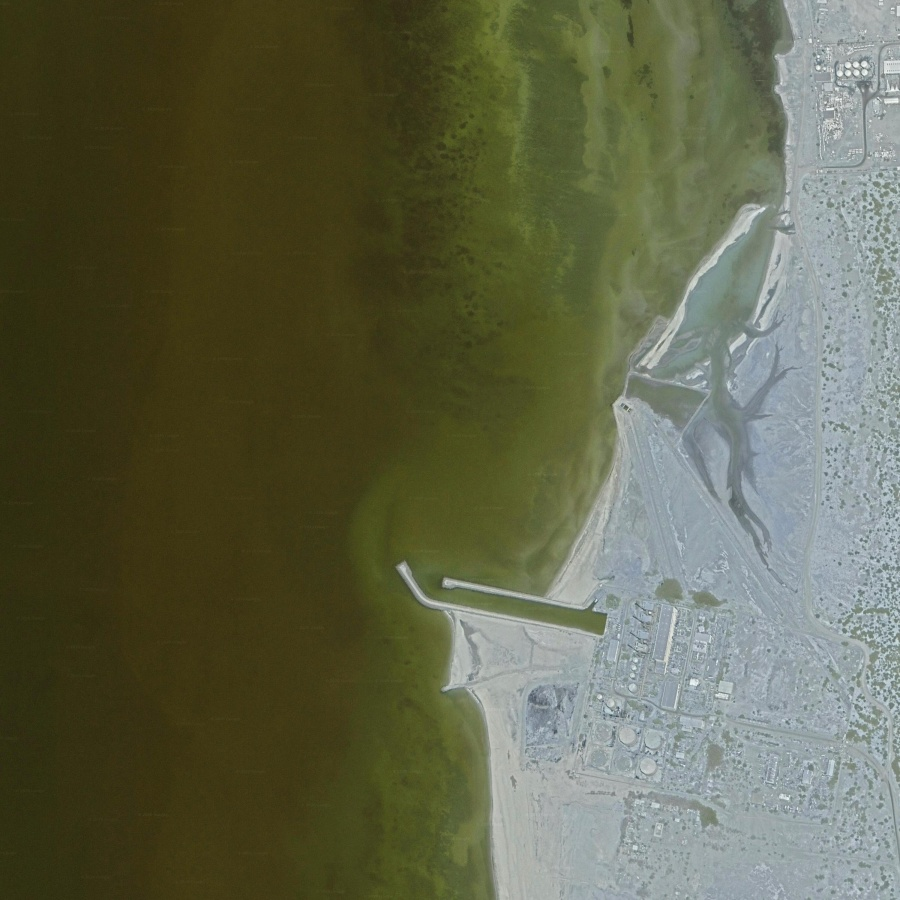PowerPlant: (514, 590, 742, 793)
